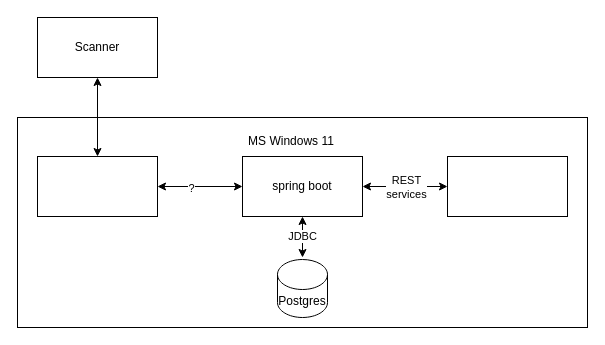
Image size: 605x345. Some labels were removed from this diagram. The shapes that lost their labels are listed below. From the top down, each one's centre as x and y in pixels, then its label:
(97,186): OS driver
(507,186): react
